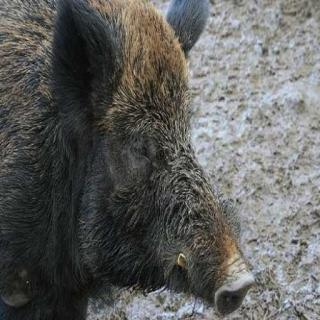Pig: (2, 0, 276, 312)
